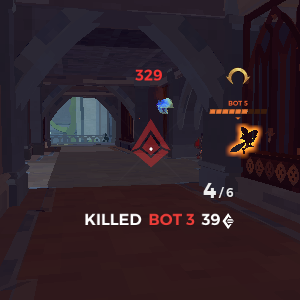model: (236, 124, 260, 159)
